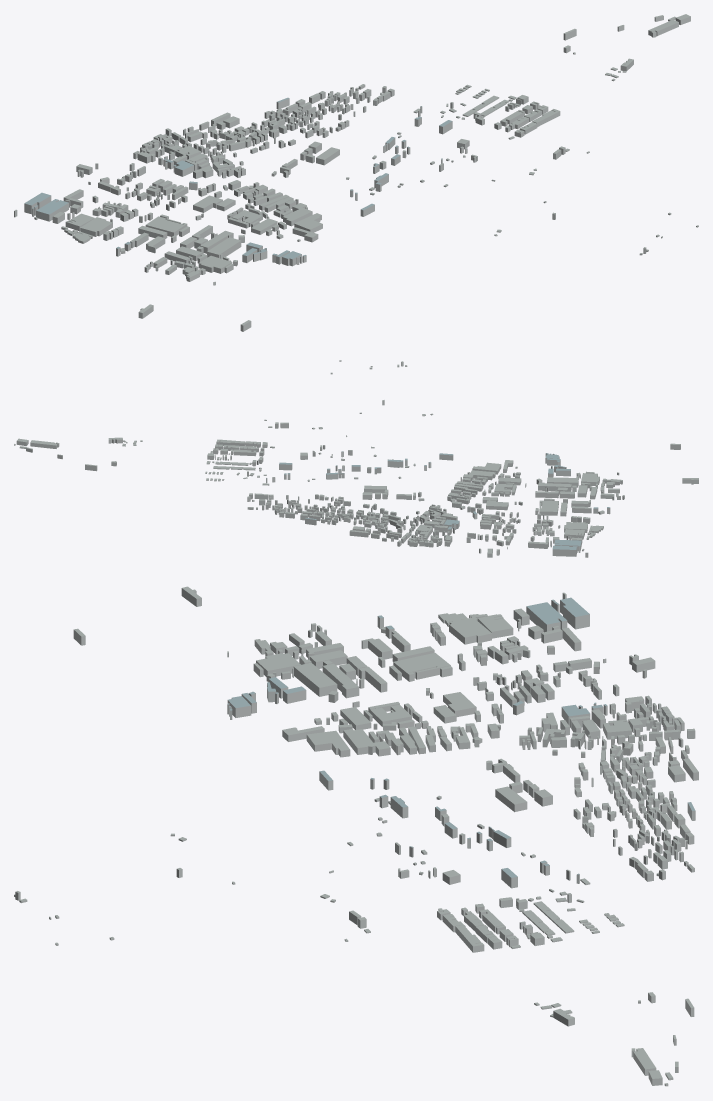
Rendered from far.glb.
The picture shows the model from 3 angles, top to bottom: view 1: azimuth 30°, elevation 25°; view 2: azimuth 150°, elevation 25°; view 3: azimuth 270°, elevation 25°; orthographic projection. The views are drawn at different scales.
Size of the model in its own units: 2072 by 24.3 by 1220.
